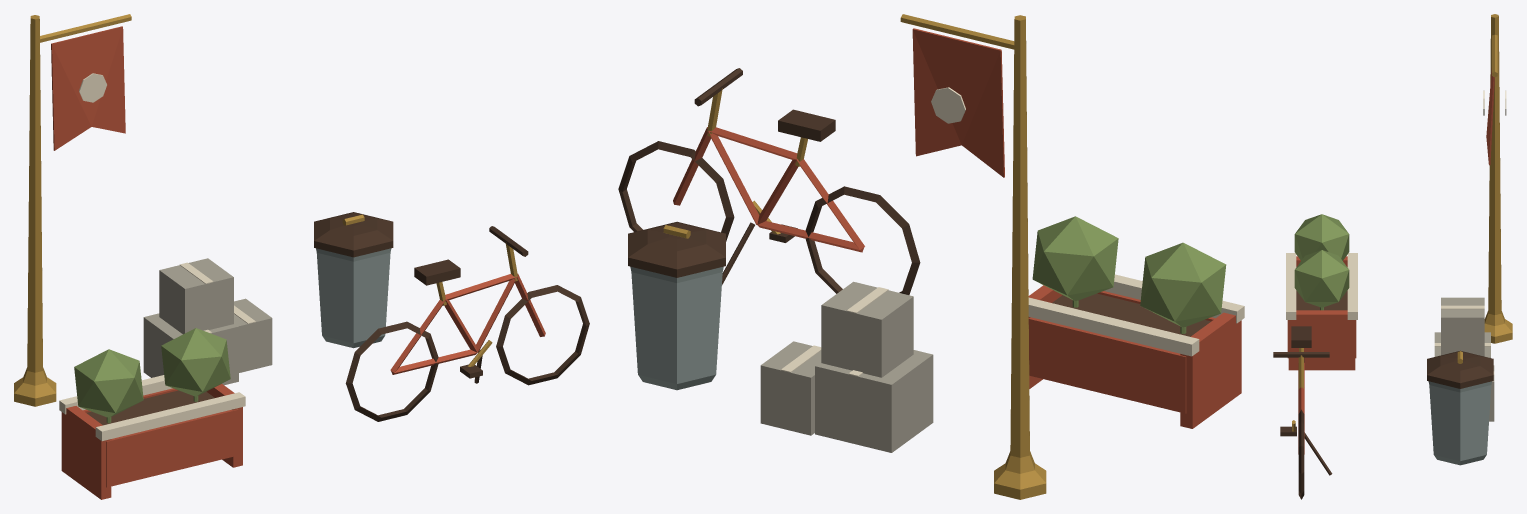
Rendered from SM_StreetProps_L2.glb.
The picture shows the model from 3 angles, left to right: view 1: azimuth 30°, elevation 25°; view 2: azimuth 150°, elevation 25°; view 3: azimuth 270°, elevation 25°; orthographic projection. The views are drawn at different scales.
Parts seen in each view (by area): view 1: SM_FlowerBox, SM_LampBanner, SM_CartonStack, SM_Bin, SM_Bicycle; view 2: SM_FlowerBox, SM_CartonStack, SM_LampBanner, SM_Bin, SM_Bicycle; view 3: SM_FlowerBox, SM_Bin, SM_LampBanner, SM_CartonStack, SM_Bicycle.
Part boxes in pixels (left/top/right/bottom): SM_FlowerBox: left=59, top=328, right=245, bottom=499; SM_LampBanner: left=14, top=14, right=131, bottom=406; SM_CartonStack: left=143, top=258, right=272, bottom=385; SM_Bin: left=314, top=212, right=393, bottom=348; SM_Bicycle: left=345, top=226, right=589, bottom=421; SM_FlowerBox: left=1028, top=216, right=1244, bottom=428; SM_CartonStack: left=760, top=281, right=933, bottom=452; SM_LampBanner: left=900, top=14, right=1046, bottom=499; SM_Bin: left=628, top=221, right=725, bottom=390; SM_Bicycle: left=618, top=68, right=920, bottom=294; SM_FlowerBox: left=1286, top=214, right=1357, bottom=370; SM_Bin: left=1427, top=350, right=1493, bottom=465; SM_LampBanner: left=1483, top=14, right=1512, bottom=343; SM_CartonStack: left=1434, top=297, right=1494, bottom=421; SM_Bicycle: left=1273, top=326, right=1332, bottom=499.
Bounding box in the file's own units: 3.79 × 2.75 × 1.87.
